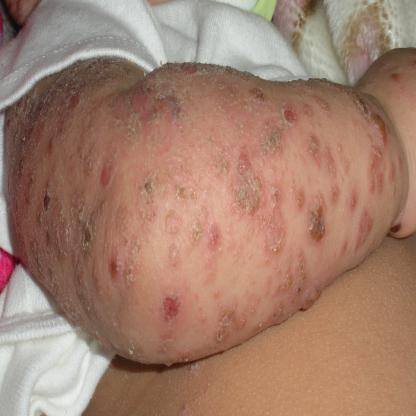Bed Bug: (124, 90, 186, 128), (356, 93, 394, 144), (366, 149, 406, 195), (158, 290, 187, 324), (354, 209, 377, 250), (98, 159, 119, 193), (16, 224, 30, 267), (311, 92, 334, 118), (245, 83, 268, 108), (107, 254, 123, 287), (325, 145, 339, 181), (388, 63, 404, 94), (207, 221, 223, 249), (66, 90, 85, 113), (279, 105, 298, 127), (234, 152, 253, 172), (178, 64, 204, 77), (26, 174, 36, 205), (45, 134, 57, 158), (346, 188, 361, 207)
